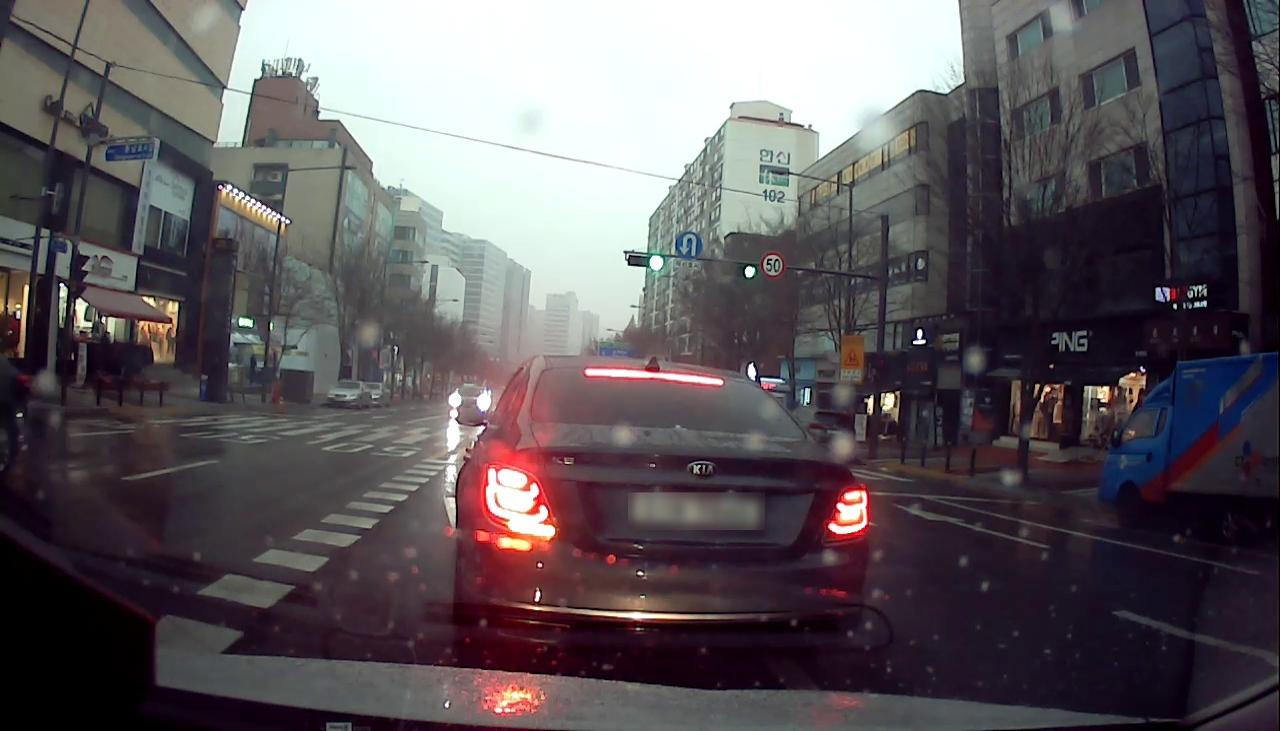Green Light: (648, 256, 664, 270), (742, 265, 756, 279)
